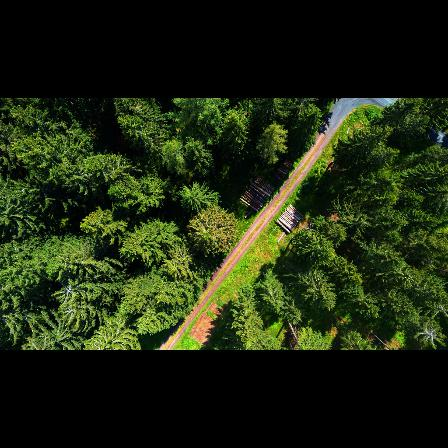Sick: (51, 272, 83, 310), (414, 324, 445, 347)
